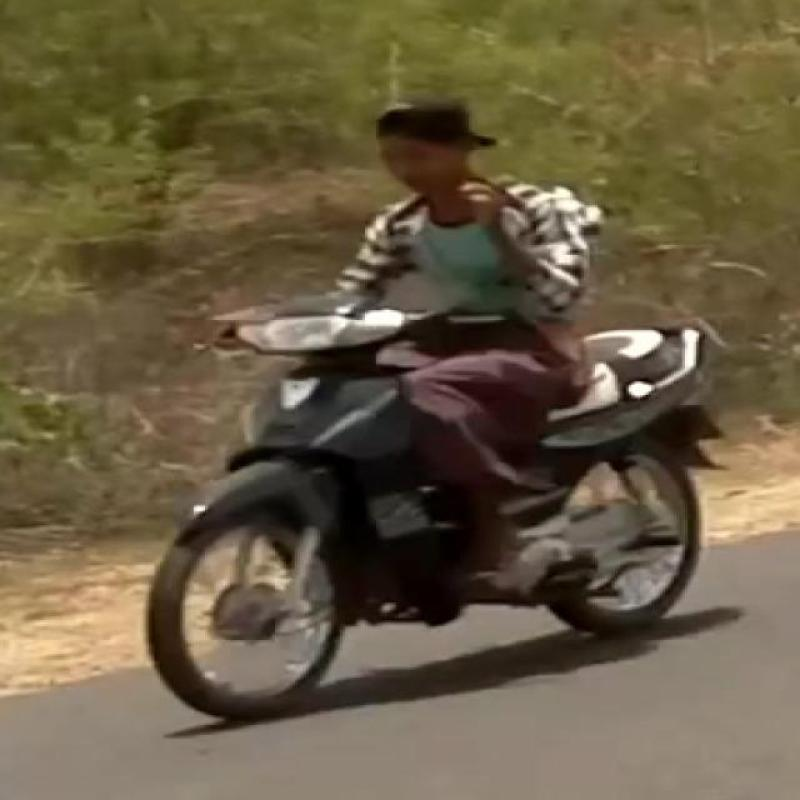nohelmet: (372, 86, 534, 195)
